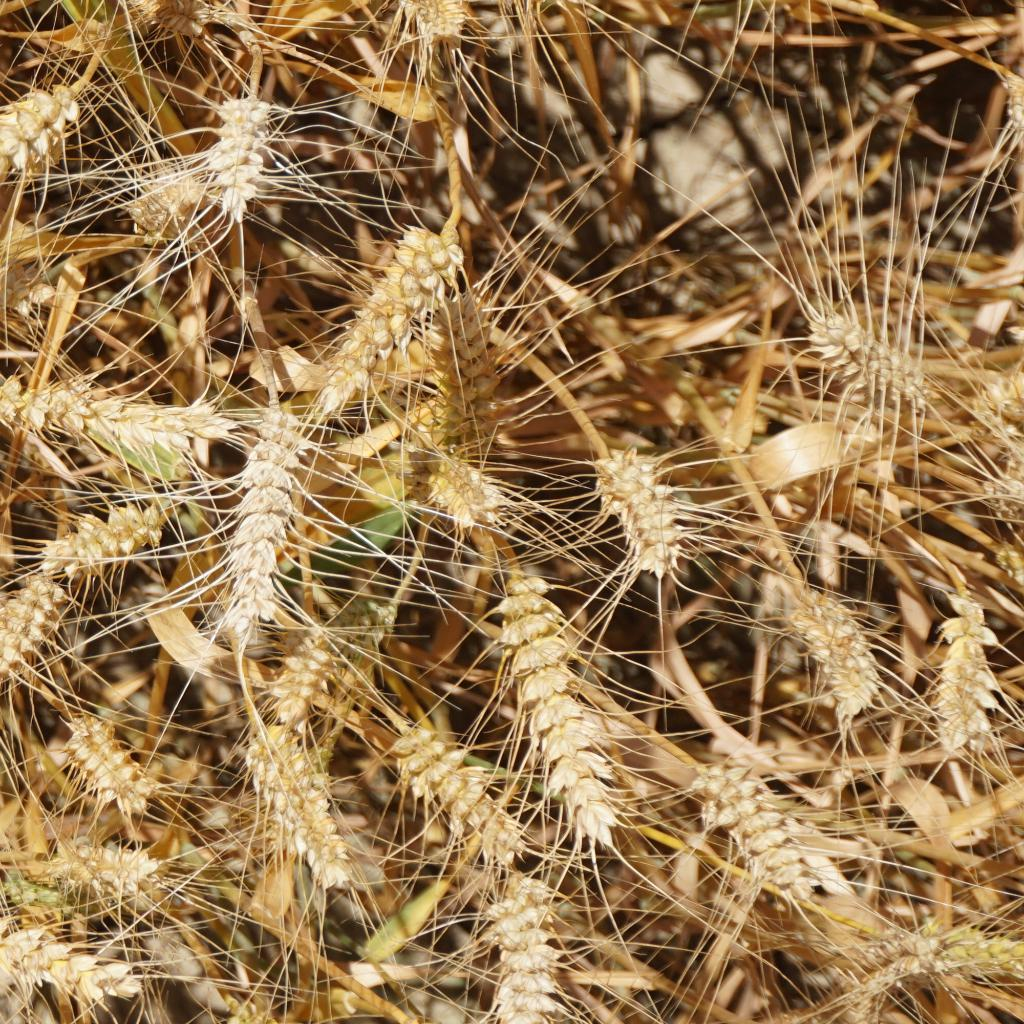0-0: (488, 565, 624, 838), (318, 234, 458, 413), (0, 358, 200, 458), (222, 401, 299, 632), (256, 724, 360, 889), (0, 882, 151, 994), (399, 720, 521, 856), (414, 286, 514, 451), (793, 293, 923, 415), (462, 872, 560, 1024), (777, 579, 886, 714), (925, 594, 1010, 746), (714, 760, 809, 893), (880, 896, 1016, 984), (592, 435, 677, 570), (69, 705, 173, 815), (185, 82, 281, 195), (320, 570, 419, 665), (27, 502, 161, 567), (0, 561, 76, 671), (423, 429, 500, 533), (0, 94, 65, 214), (51, 823, 157, 880), (121, 155, 183, 238), (120, 0, 226, 47), (265, 642, 330, 718), (386, 0, 482, 45), (0, 253, 35, 340)
